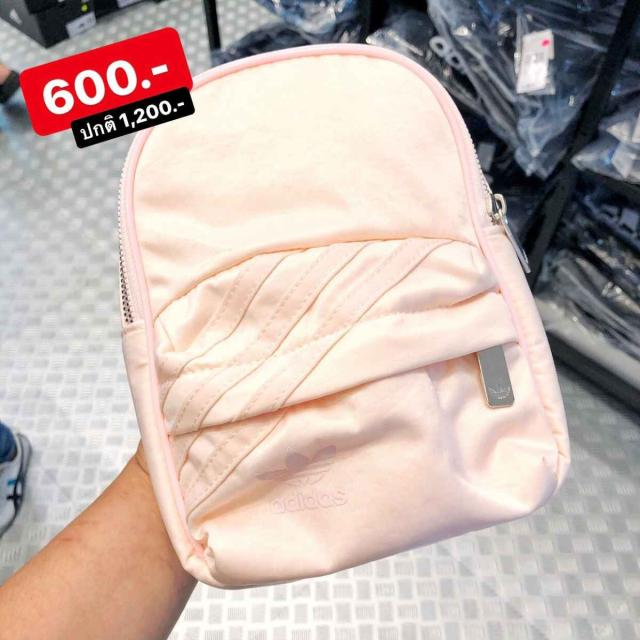Handbag: (118, 34, 576, 592)
